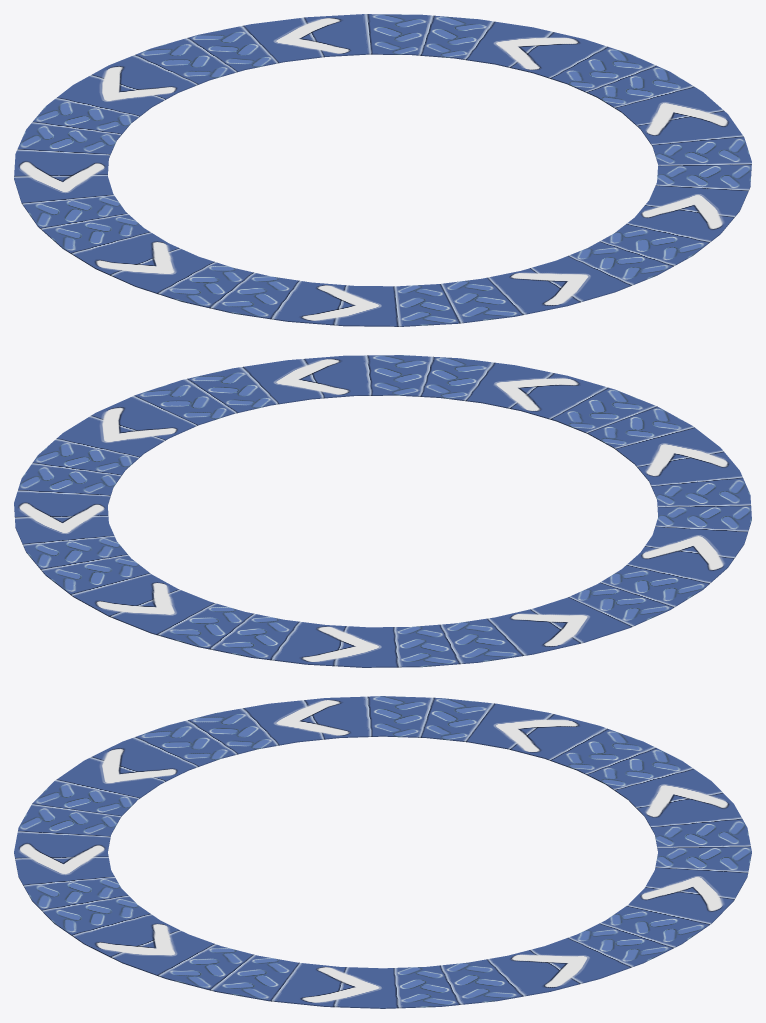
Rendered from Moving.Road.003.fbx.
3 renders of one model, top to bottom at view 1: azimuth 30°, elevation 25°; view 2: azimuth 150°, elevation 25°; view 3: azimuth 270°, elevation 25°, orthographic.
Visible parts, largest first — view 1: Moving.Road.003; view 2: Moving.Road.003; view 3: Moving.Road.003.
Boxes of the visible parts, box(x1,y1,x2,y2) form: Moving.Road.003: box(14, 14, 751, 326); Moving.Road.003: box(14, 355, 751, 667); Moving.Road.003: box(14, 696, 751, 1008).
Bounding box in the file's own units: 14.36 × 0.0204 × 14.36.
